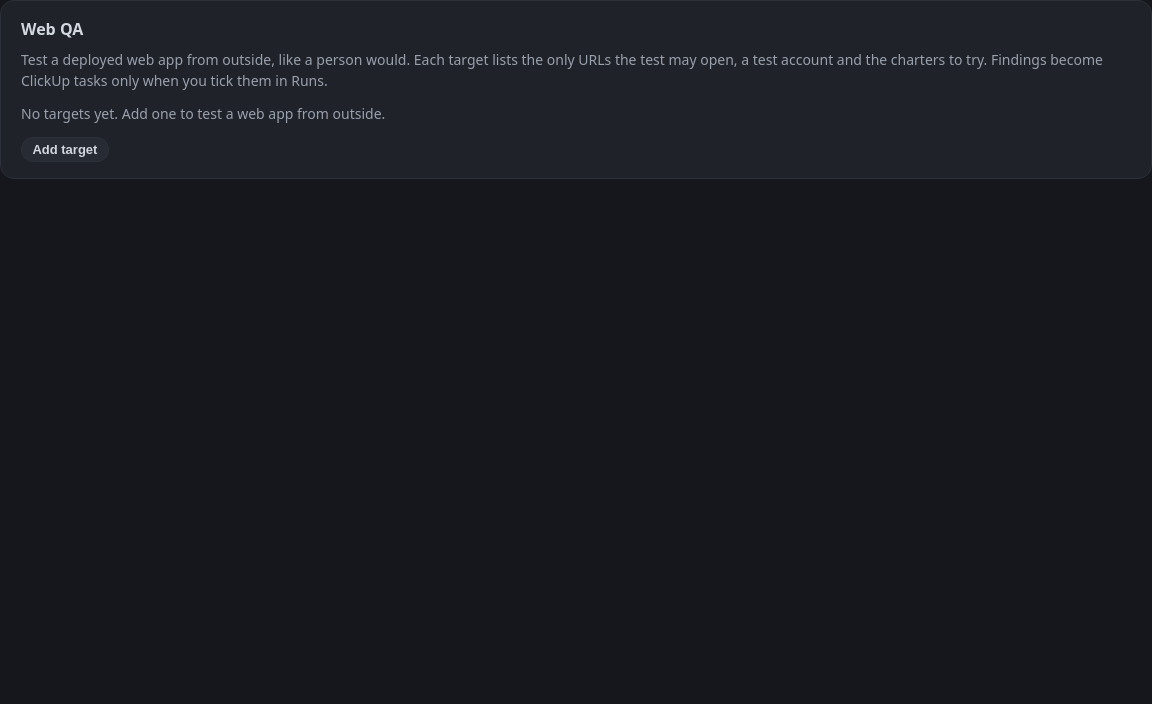
Scenario: WebQaTargets › refuses an invalid URL with a message and sends nothing
Click the button "Add target" at (65, 150), box left=21, top=137, right=109, bottom=162
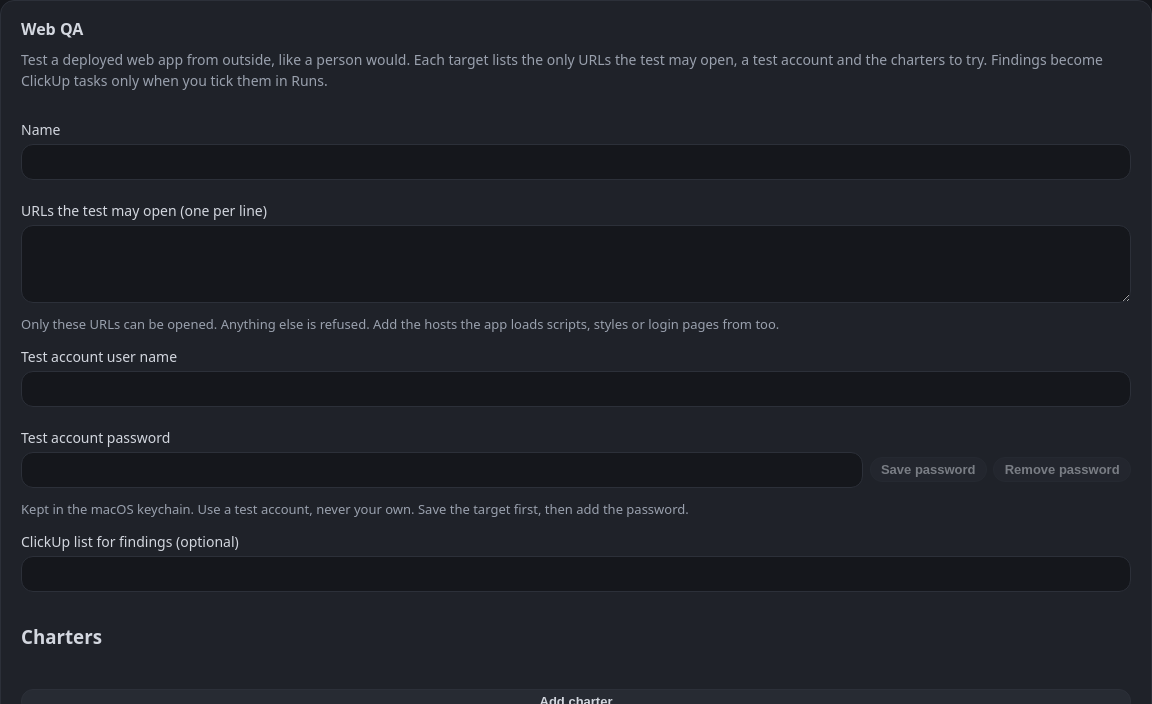
Type "Prod" into the field named "Target name" at (576, 162), box left=21, top=144, right=1131, bottom=180
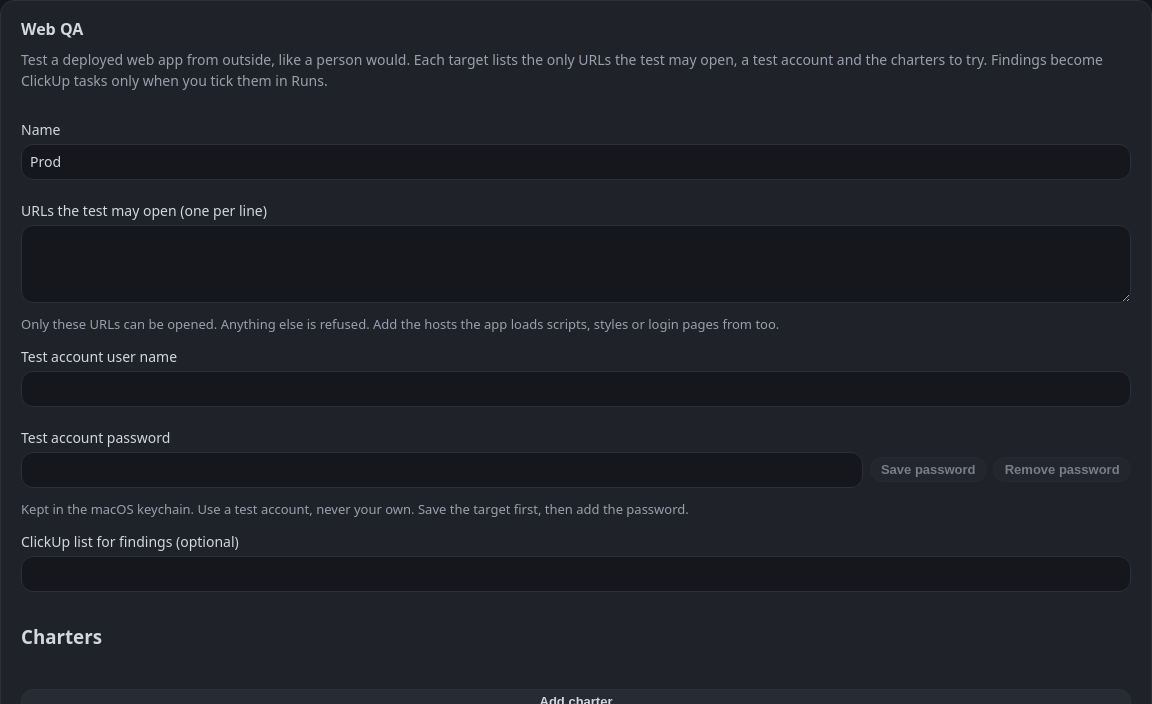
Type "ftp://app.example.com/" into the text box named "Allowed URLs" at (576, 264), box left=21, top=225, right=1131, bottom=303
(page scrolled)
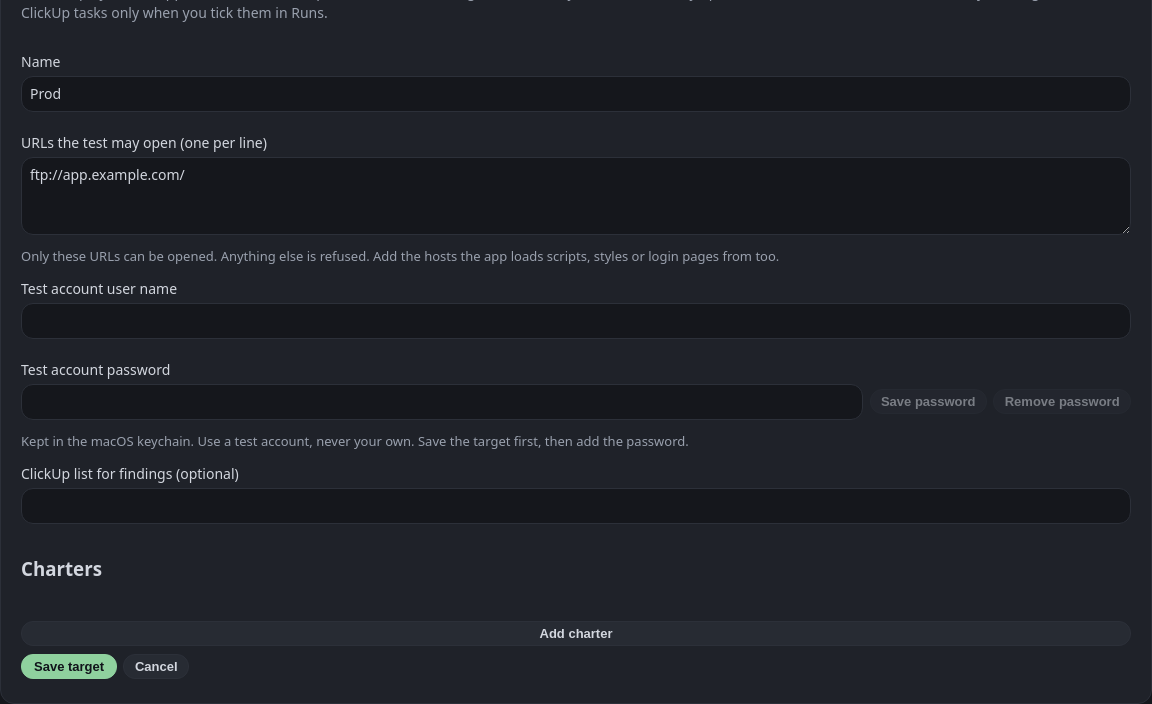
Click the button "Save target" at (69, 667), box left=21, top=654, right=117, bottom=679
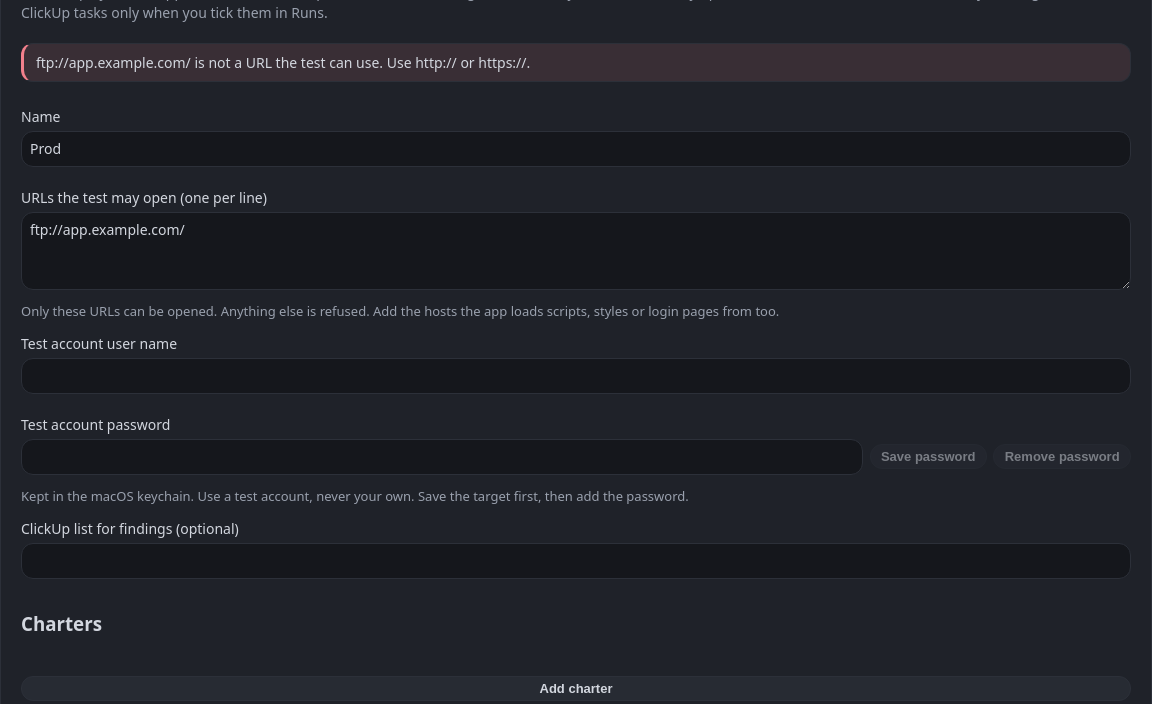
Result: the message shows "ftp://app.example.com/ is not a URL the test can use" at left=36, top=53, right=530, bottom=72
